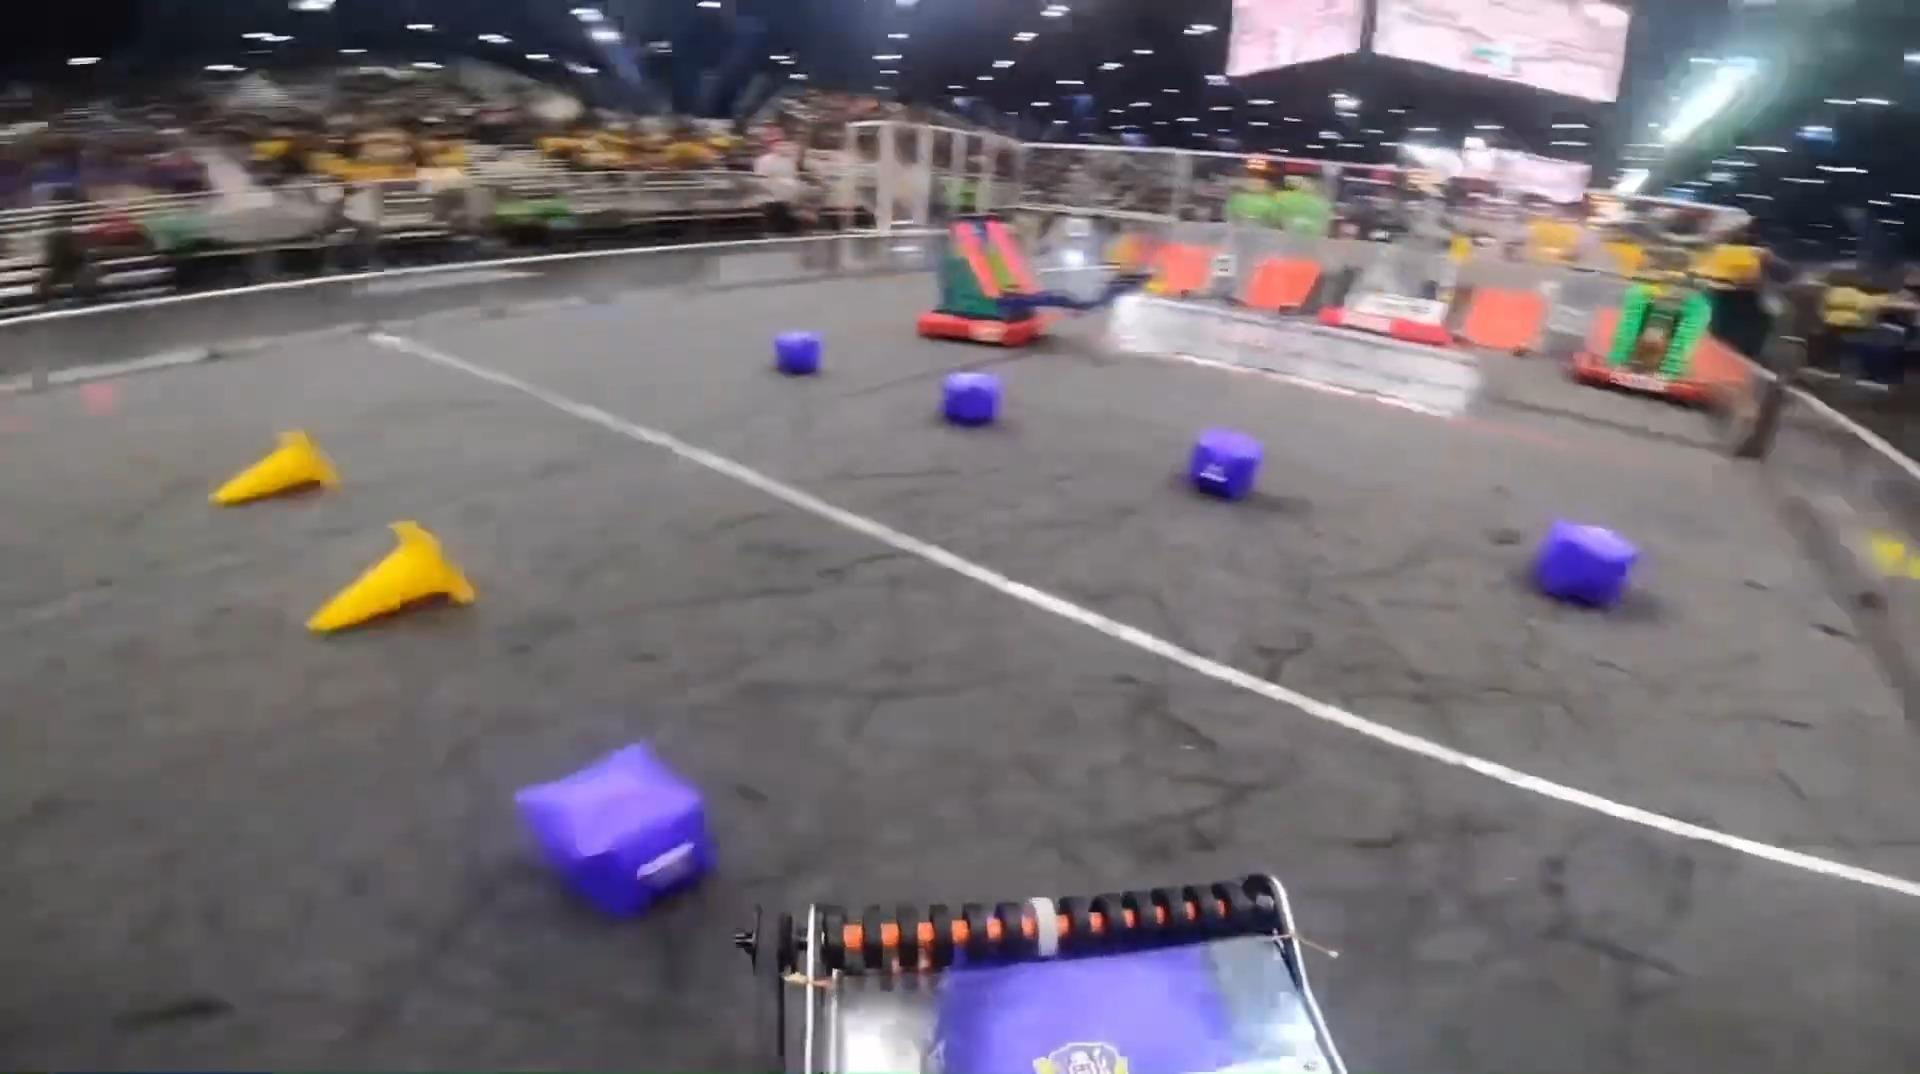robot: (914, 206, 1149, 346), (1572, 267, 1720, 410), (1315, 239, 1464, 351)
